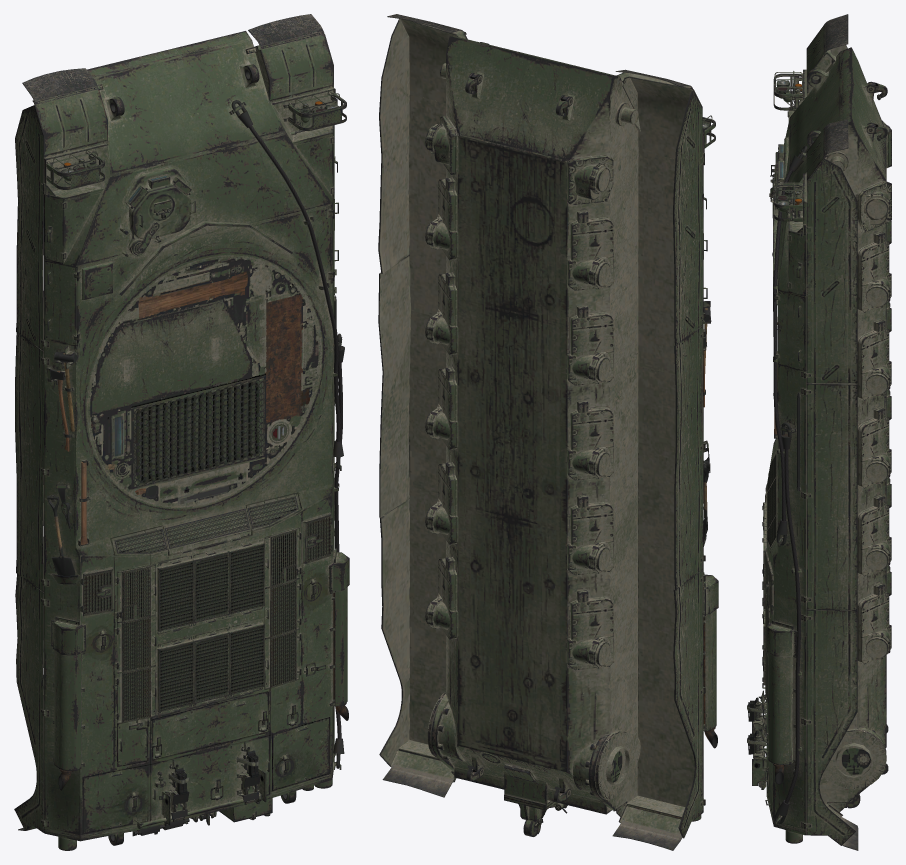
File: Hull.glb
3 views of the same model, side by side, from view 1: azimuth 30°, elevation 25°; view 2: azimuth 150°, elevation 25°; view 3: azimuth 270°, elevation 25° (orthographic). The views are drawn at different scales.
Visible parts, largest first — view 1: set_0_group_0; view 2: set_0_group_0; view 3: set_0_group_0.
Part boxes in pixels (<box>): set_0_group_0: <box>14,14,349,850</box>; set_0_group_0: <box>378,14,718,850</box>; set_0_group_0: <box>747,14,891,850</box>.
Size of the model in its own units: 3.48 by 8.71 by 1.57.
1 material, 1 textured.
